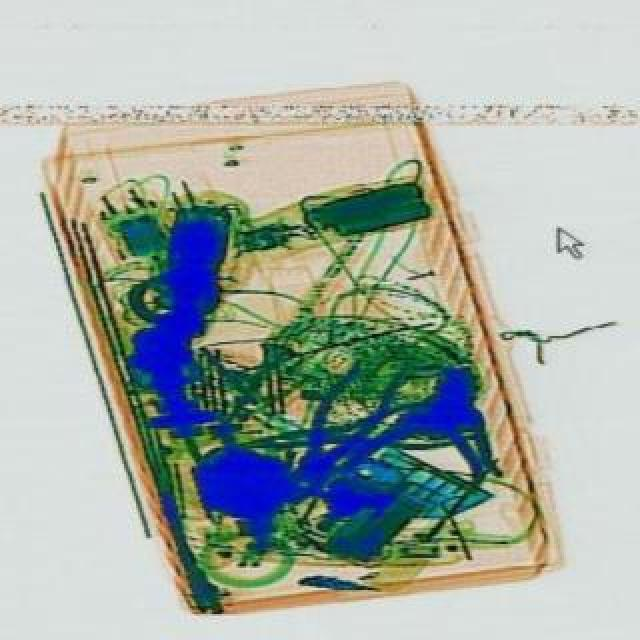wrench: (270, 348, 404, 500), (230, 392, 478, 472)
